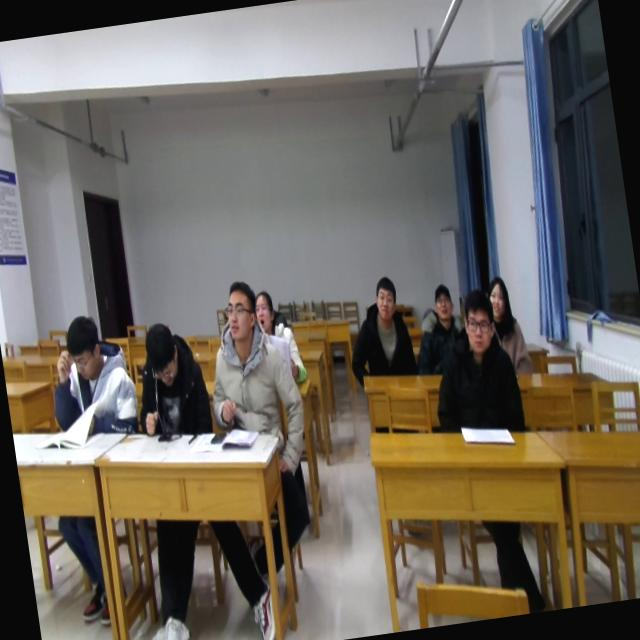down: (138, 314, 187, 391), (60, 308, 108, 386)
lookup: (216, 276, 265, 346), (456, 284, 499, 357), (481, 271, 514, 326), (368, 272, 401, 326), (250, 284, 280, 334), (428, 278, 458, 326)
sit: (195, 275, 308, 437), (420, 286, 529, 442), (40, 310, 142, 445), (124, 318, 213, 444), (338, 274, 418, 386), (407, 282, 474, 378), (251, 284, 309, 388), (480, 272, 536, 379)
